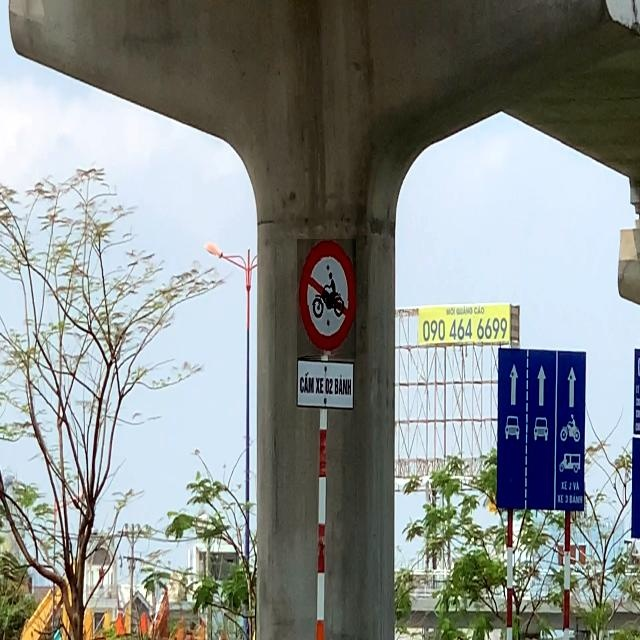bien_cam: (297, 240, 356, 360)
